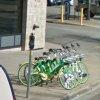Bicycle: (14, 40, 88, 90)
